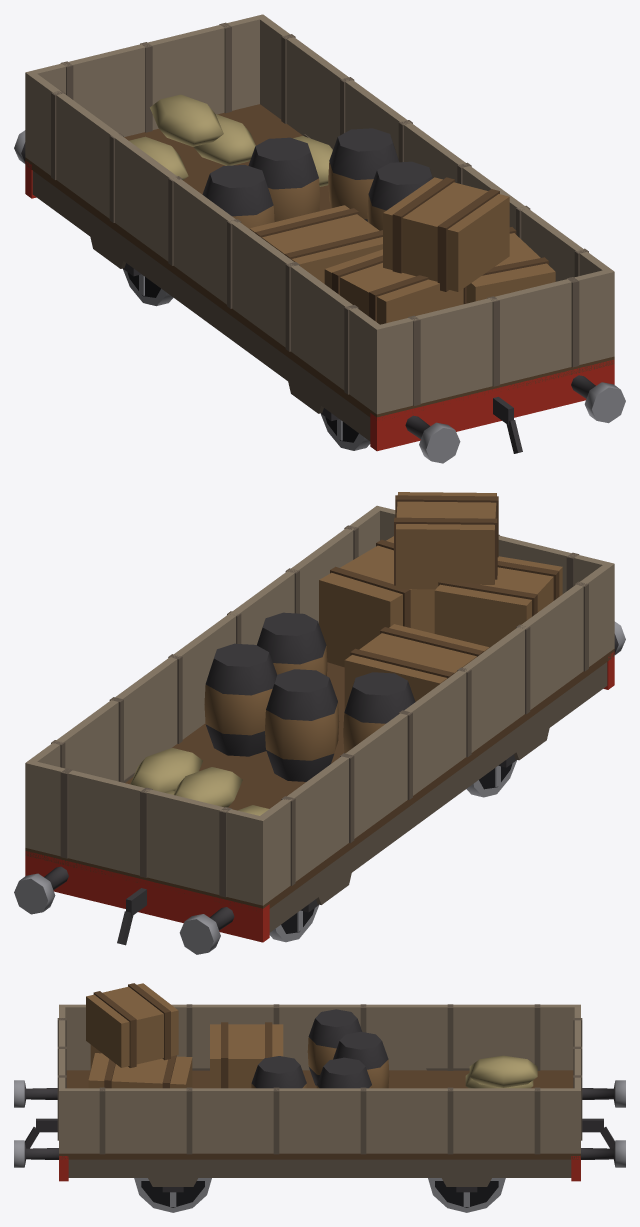
Rendered from wagon_open.glb.
3 views of the same model, one above another, from view 1: azimuth 30°, elevation 25°; view 2: azimuth 150°, elevation 25°; view 3: azimuth 270°, elevation 25° (orthographic). The views are drawn at different scales.
Parts seen in each view (by area): view 1: Body, Wheel1, Wheel2; view 2: Body, Wheel1, Wheel2; view 3: Body, Wheel1, Wheel2.
Boxes of the visible parts, x1,y1,x2,y2 form: Body: (14, 14, 625, 463); Wheel1: (123, 269, 173, 306); Wheel2: (321, 414, 370, 450); Body: (14, 492, 625, 954); Wheel1: (269, 905, 319, 942); Wheel2: (466, 760, 516, 797); Body: (14, 983, 625, 1192); Wheel1: (428, 1178, 505, 1212); Wheel2: (134, 1178, 211, 1212).
Bounding box in the file's own units: 2.53 × 2.47 × 7.5.
